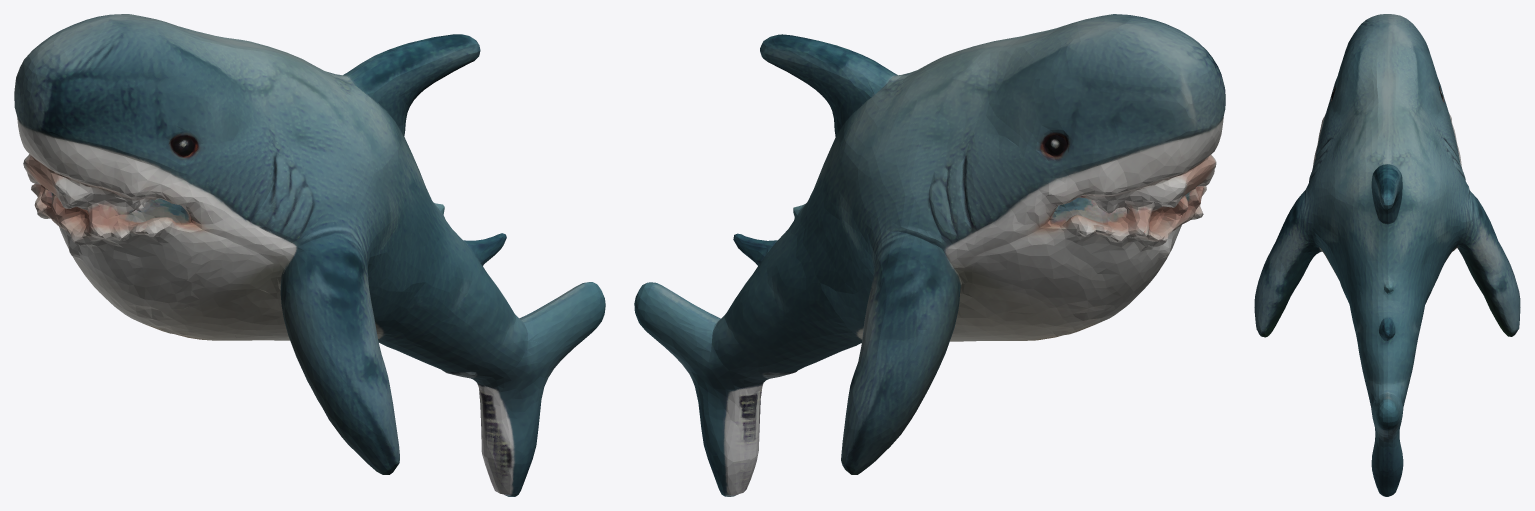
The picture shows the model from 3 angles, left to right: view 1: azimuth 30°, elevation 25°; view 2: azimuth 150°, elevation 25°; view 3: azimuth 270°, elevation 25°; orthographic projection. The views are drawn at different scales.
Visible parts, largest first — view 1: world; view 2: world; view 3: world.
Boxes of the visible parts, <box> form: world: <box>14,14,605,496</box>; world: <box>634,14,1225,496</box>; world: <box>1254,14,1520,496</box>.
Size of the model in its own units: 1 by 0.9434 by 0.6443.
Materials: 1 (1 with a texture image).
